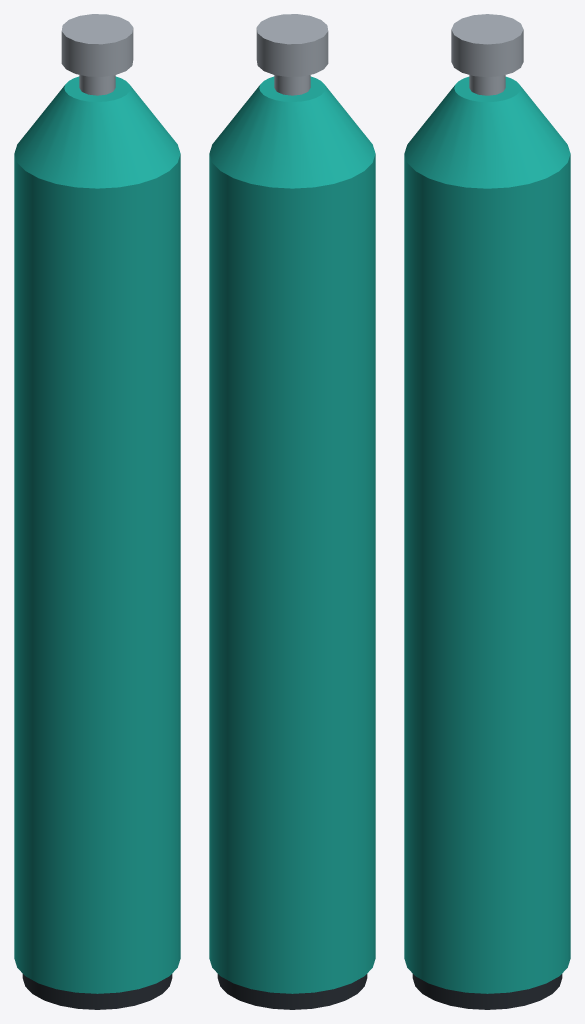
File: gas-cylinder.glb
The picture shows the model from 3 angles, left to right: view 1: azimuth 30°, elevation 25°; view 2: azimuth 150°, elevation 25°; view 3: azimuth 270°, elevation 25°; orthographic projection.
Visible parts, largest first — view 1: gas-cylinder; view 2: gas-cylinder; view 3: gas-cylinder.
Boxes of the visible parts, left/top/right/bottom form: gas-cylinder: left=14, top=14, right=180, bottom=1009; gas-cylinder: left=209, top=14, right=375, bottom=1009; gas-cylinder: left=404, top=14, right=570, bottom=1009.
Bounding box in the file's own units: 0.23 × 1.45 × 0.23.
